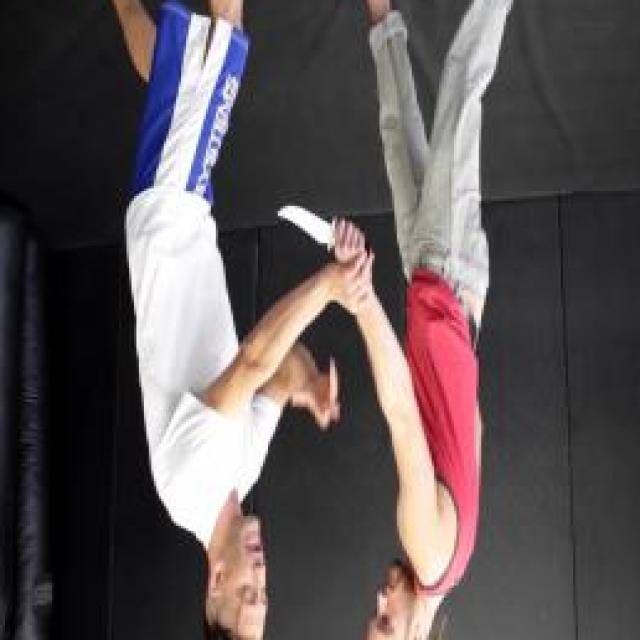knife: (273, 191, 374, 260)
